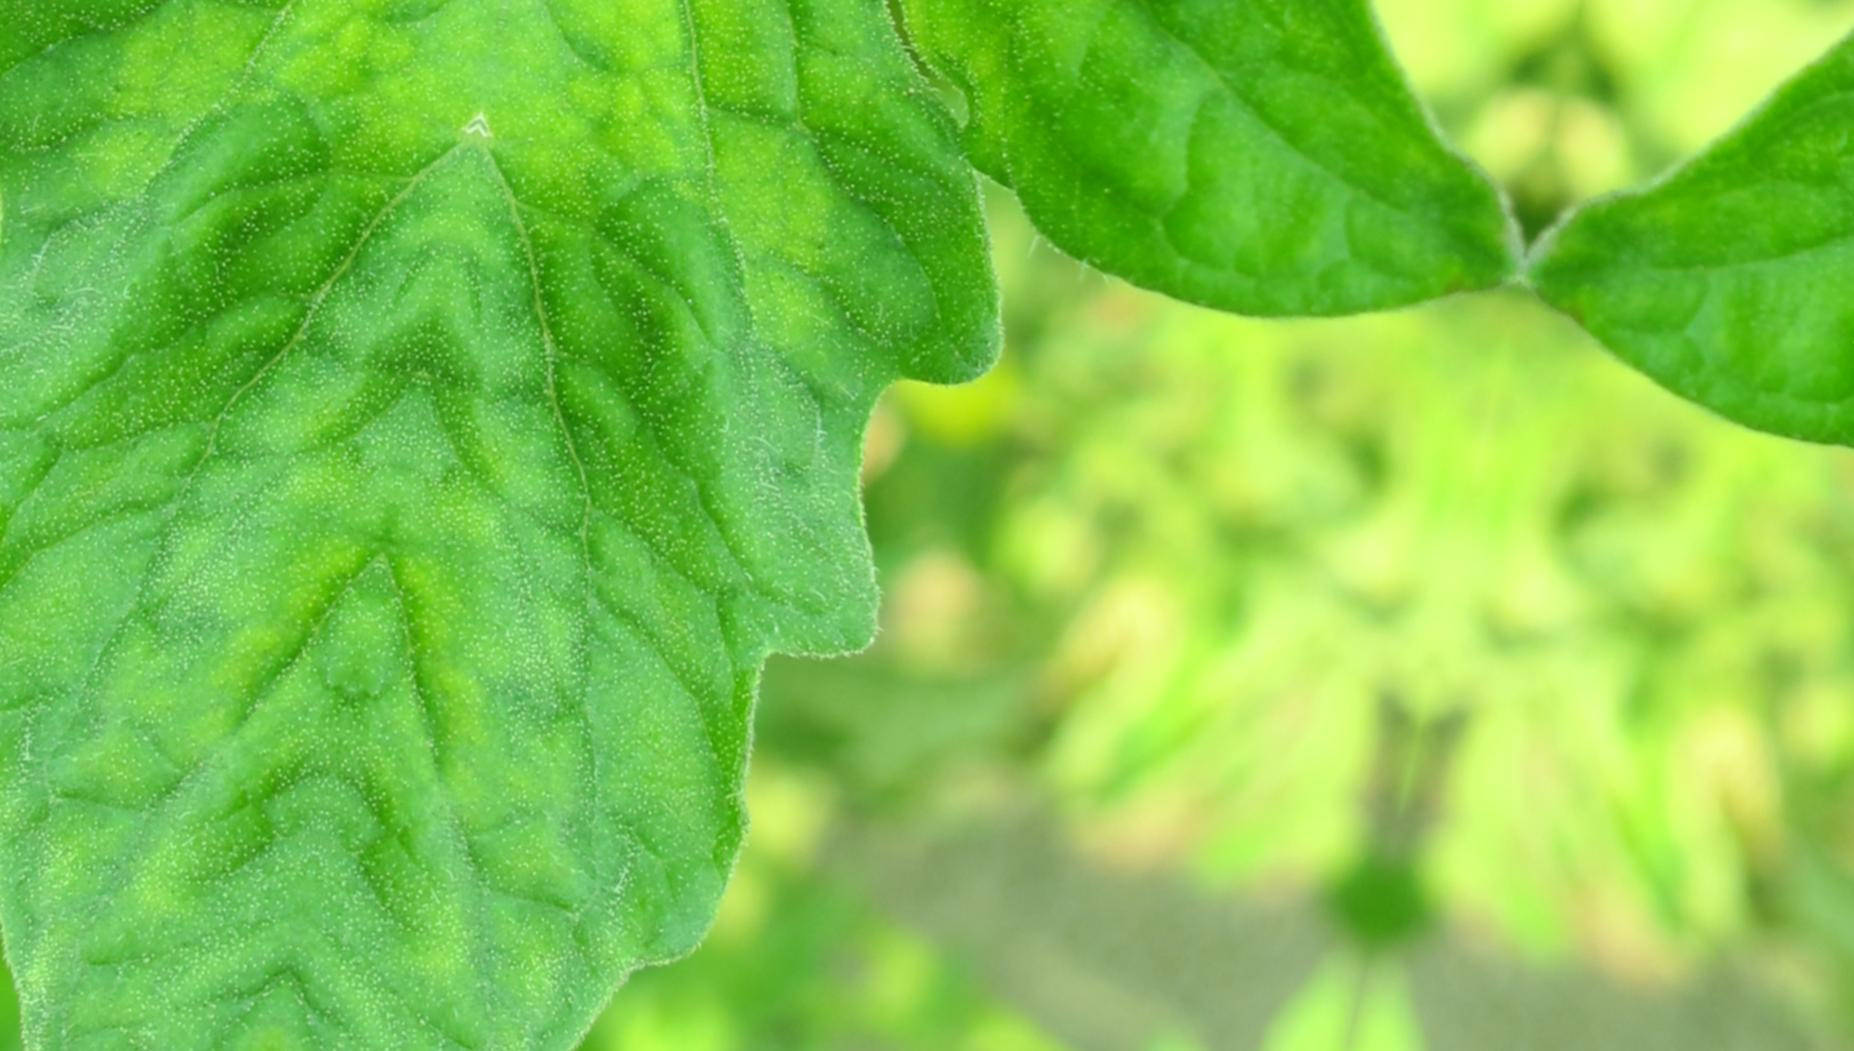Tomato leaf mosaic virus: (211, 0, 1582, 1051)
